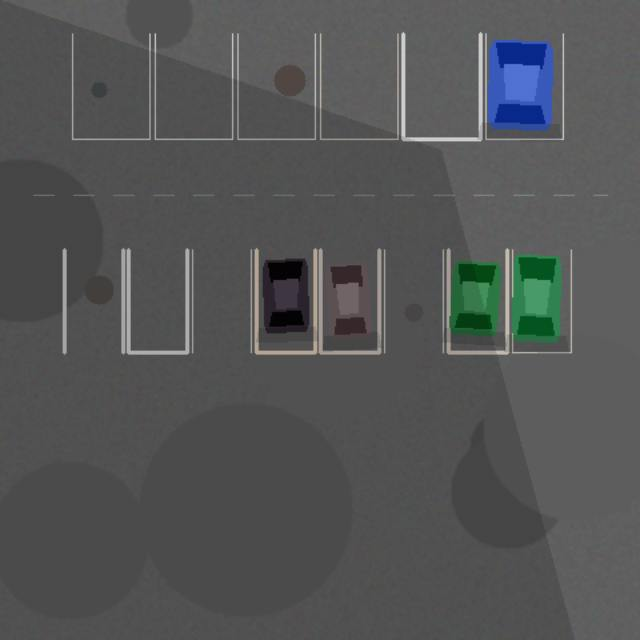space-empty: (237, 33, 315, 139), (72, 33, 149, 139), (155, 33, 232, 139), (320, 33, 397, 139), (403, 33, 480, 139), (64, 249, 123, 352), (128, 249, 187, 352), (192, 249, 251, 352), (384, 249, 443, 352)
space-occupied: (485, 33, 563, 139), (256, 249, 315, 352), (320, 249, 379, 352), (448, 249, 507, 352), (512, 249, 571, 352)
